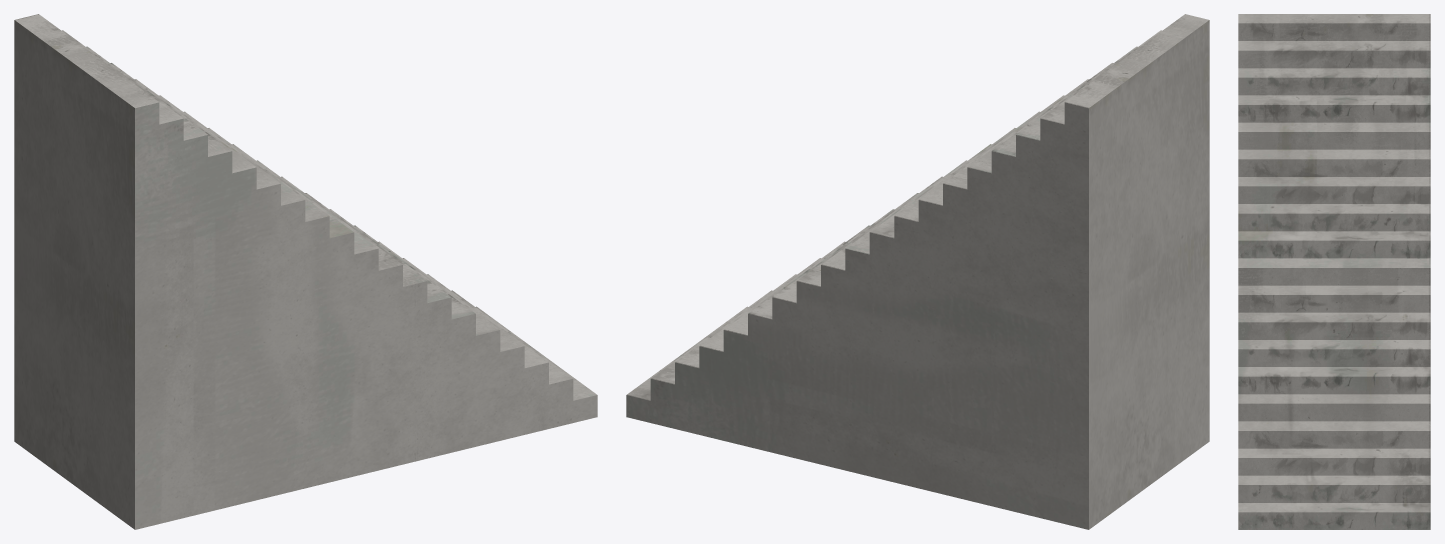
Rendered from stair_01 1.fbx.
3 views of the same model, side by side, from view 1: azimuth 30°, elevation 25°; view 2: azimuth 150°, elevation 25°; view 3: azimuth 270°, elevation 25° (orthographic). The views are drawn at different scales.
Parts seen in each view (by area): view 1: StraightStair004; view 2: StraightStair004; view 3: StraightStair004.
Part boxes in pixels (left/top/right/bottom): StraightStair004: left=14, top=14, right=597, bottom=529; StraightStair004: left=626, top=14, right=1209, bottom=529; StraightStair004: left=1238, top=14, right=1430, bottom=529.
Size of the model in its own units: 594 by 518 by 269.
